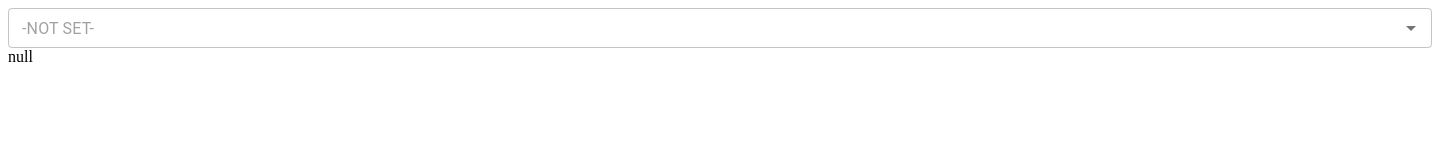
Test case: ReferralsAutocomplete › stores a selected option and restores its label after blur
Click the button named "Open" at (1411, 28), box [1397,14,1425,42]
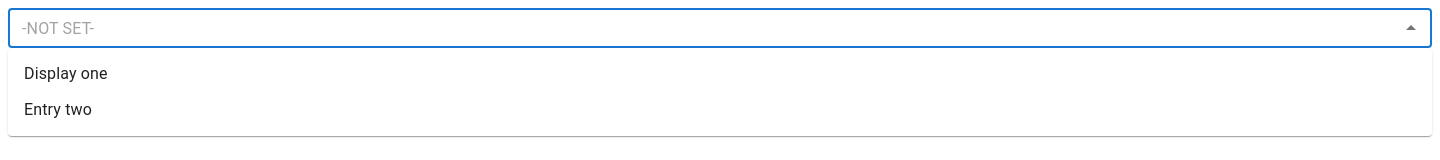
Click the option "Display one" at (66, 74), box [24,64,108,83]
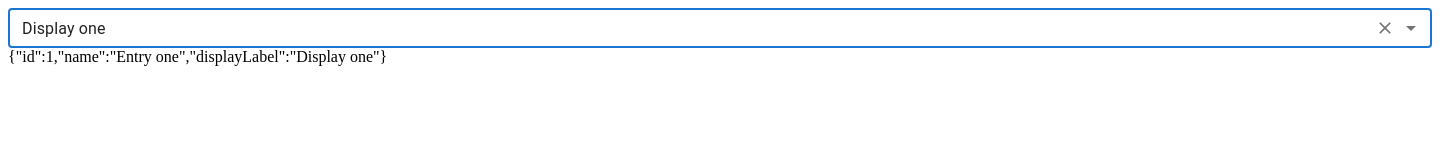
expect the text with test id "value" shows "\"displayLabel\":\"Display one\"": met, box [8,48,387,65]
Replace the text in the dropdown with "temporary text" at (690, 28), box [14,14,1367,42]
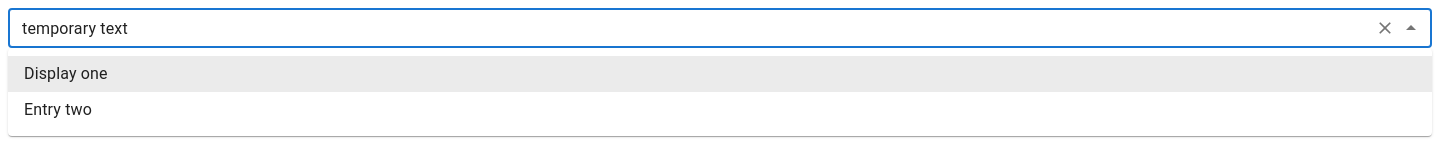
Leave the dropdown, box [14,14,1367,42]
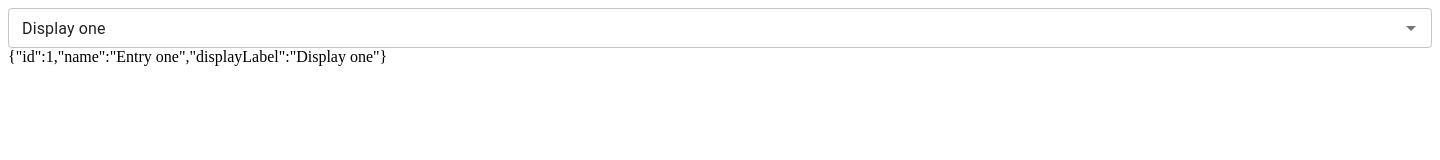
expect the dropdown holds "Display one": met, box [14,14,1367,42]
